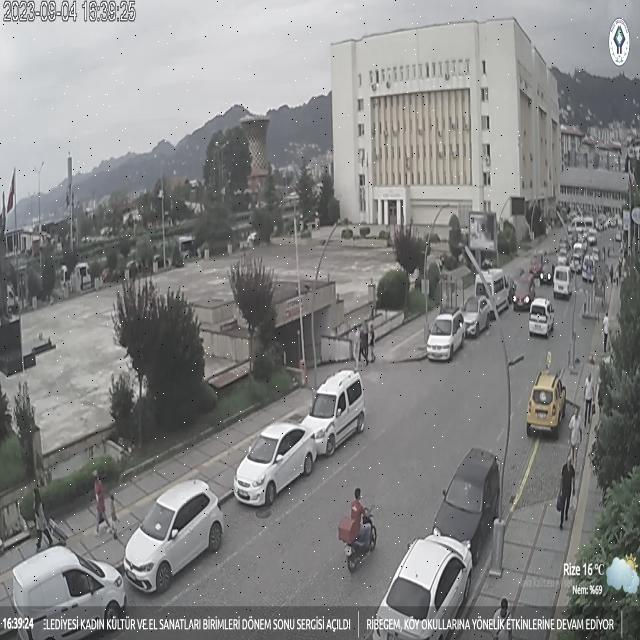Car: (123, 478, 225, 592), (370, 535, 474, 640), (430, 450, 501, 562), (233, 420, 319, 506), (526, 369, 566, 437), (426, 310, 466, 360), (459, 293, 491, 336), (528, 297, 556, 337), (511, 275, 536, 312), (582, 257, 596, 284), (540, 262, 554, 285), (569, 250, 583, 273), (588, 248, 600, 264), (556, 252, 568, 266), (587, 232, 597, 246), (615, 230, 623, 242)
Cycle: (337, 486, 377, 573)
Van: (10, 547, 126, 637), (302, 370, 365, 454), (473, 269, 509, 317), (553, 266, 573, 300)
